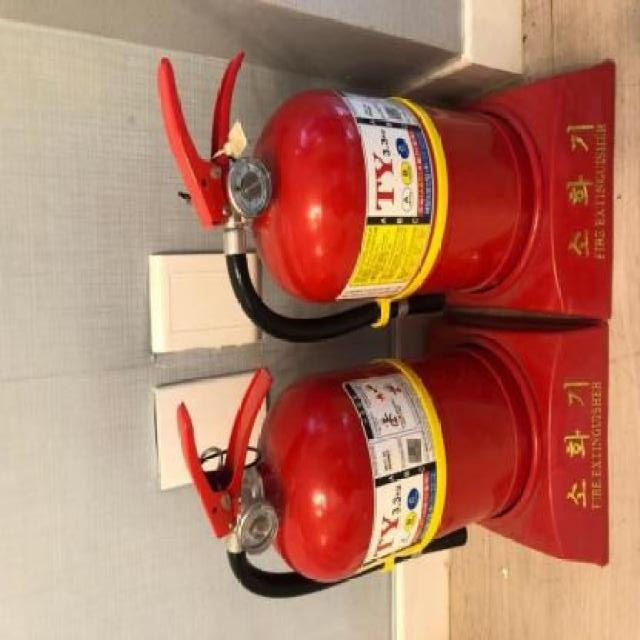fire extinguisher: (157, 50, 535, 342), (176, 344, 532, 599)
